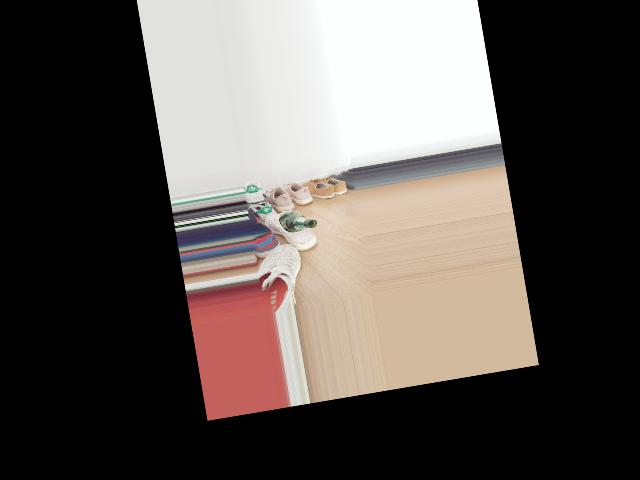beer: (279, 210, 318, 233)
